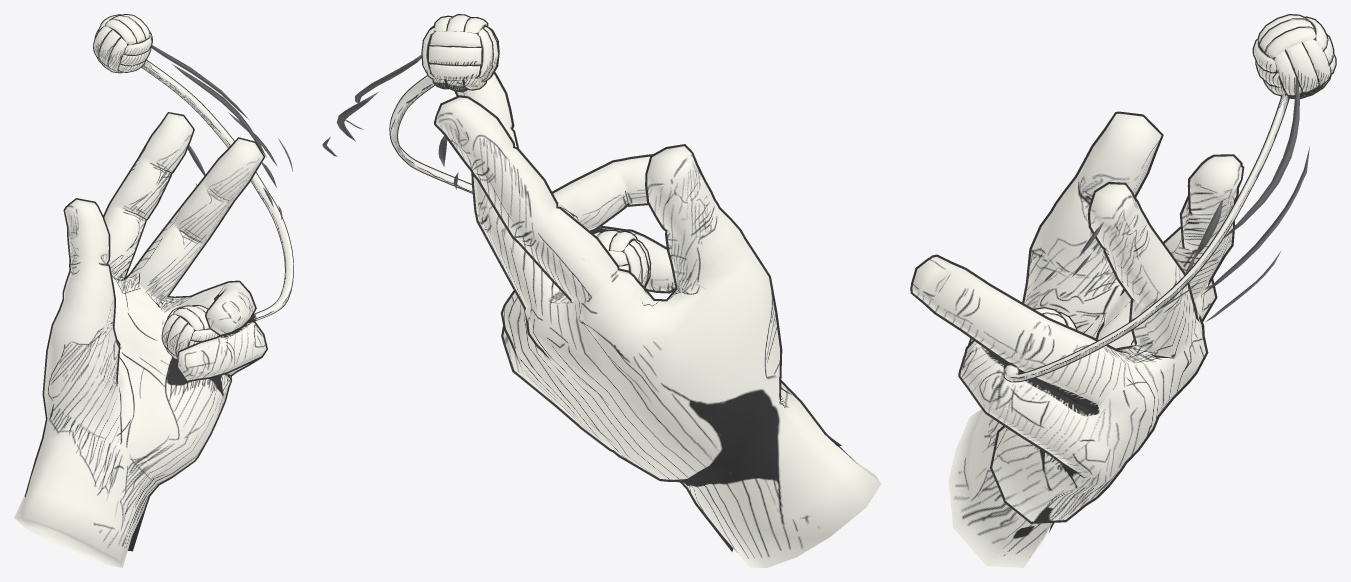
Rendered from knot.glb.
3 renders of one model, left to right at view 1: azimuth 30°, elevation 25°; view 2: azimuth 150°, elevation 25°; view 3: azimuth 270°, elevation 25°, orthographic. The views are drawn at different scales.
Visible parts, largest first — view 1: hand, hand hull, begleri 2, begleri cord, begleri1, speed1, begleri cord hull.001, begleri 2 hull; view 2: hand, hand hull, begleri 2, begleri1, begleri cord, speed1, begleri 2 hull; view 3: hand, hand hull, begleri 2, begleri cord, speed1, begleri cord hull.001, begleri 2 hull, speed.
Boxes of the visible parts, x1,y1,x2,y2 form: hand: [14, 113, 266, 567]; hand hull: [24, 112, 267, 551]; begleri 2: [93, 15, 151, 72]; begleri cord: [142, 60, 293, 322]; begleri1: [162, 306, 218, 358]; speed1: [151, 45, 292, 171]; begleri cord hull.001: [141, 60, 293, 322]; begleri 2 hull: [93, 14, 152, 73]; hand: [436, 74, 881, 567]; hand hull: [434, 72, 857, 551]; begleri 2: [422, 15, 498, 90]; begleri1: [594, 231, 649, 285]; begleri cord: [390, 76, 472, 192]; speed1: [322, 55, 421, 156]; begleri 2 hull: [421, 14, 499, 92]; hand: [912, 113, 1242, 567]; hand hull: [910, 111, 1244, 532]; begleri 2: [1254, 15, 1335, 97]; begleri cord: [1004, 92, 1289, 381]; speed1: [1156, 76, 1309, 321]; begleri cord hull.001: [1003, 94, 1289, 382]; begleri 2 hull: [1252, 14, 1336, 99]; speed: [1042, 201, 1222, 283].
Bounding box in the file's own units: 20.6 × 26.86 × 16.54.
9 materials, 8 textured.
